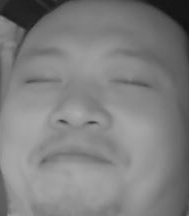blink: (107, 70, 150, 89), (23, 72, 63, 89)
mouth: (38, 141, 114, 178)
